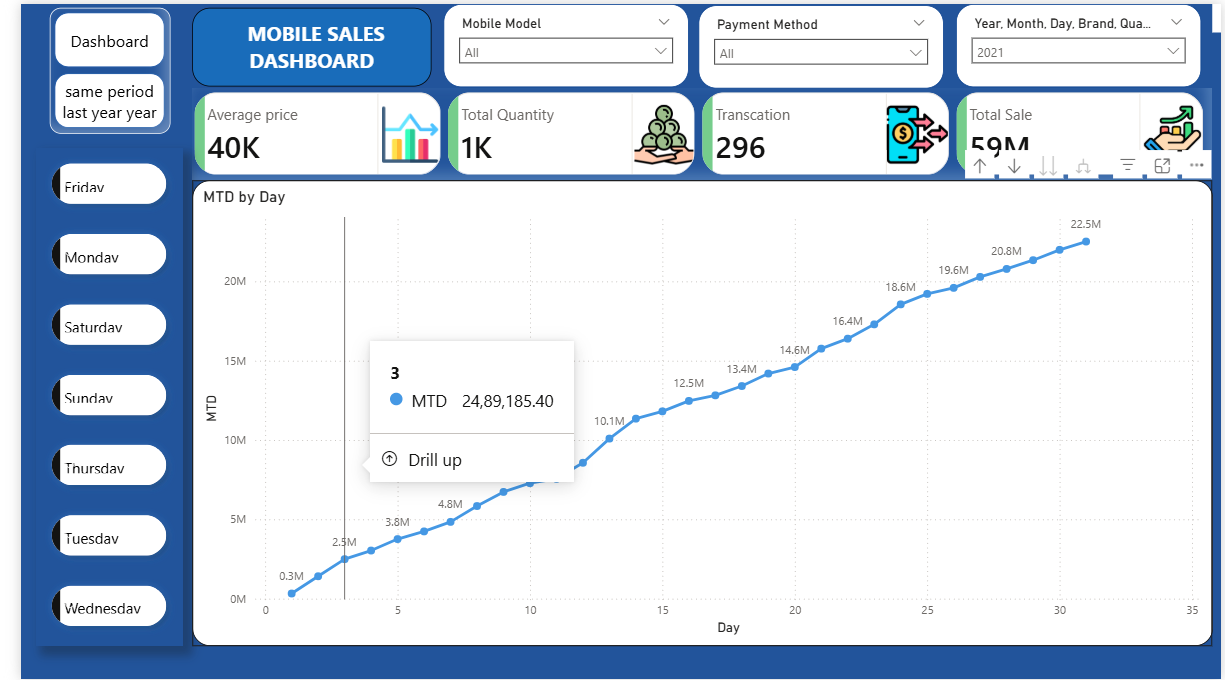

This screenshot's page, from the dashboard's own definition file:
{"tool":"powerbi","page":{"name":"MTD report","canvas":[1280,720],"ordinal":1},"visuals":[{"type":"textbox","box":[15.9,4.3,156.5,134.8],"z":0},{"type":"cardVisual","fields":{"Data":["Sheet1.Average price","Sheet1.Total_sold","Sheet1.Transcation","Sheet1.TotalSale"]},"box":[182.9,89.5,1088.2,98.7],"z":1000},{"type":"slicer","fields":{"Values":["Sheet1.Mobile Model"]},"box":[450,0,261.3,88.9],"z":2000},{"type":"slicer","fields":{"Values":["Sheet1.Payment Method"]},"box":[722.2,1.4,261.3,88.9],"z":3000},{"type":"slicer","fields":{"Values":["date_list.Date.Variation.Date Hierarchy.Year","date_list.Date.Variation.Date Hierarchy.Month","date_list.Date.Variation.Date Hierarchy.Day","Sheet1.Brand","date_list.Date.Variation.Date Hierarchy.Quarter"]},"box":[997.1,0,261.3,88.9],"z":4000},{"type":"textbox","box":[182.6,4.3,255.1,84.1],"z":5000},{"type":"advancedSlicerVisual","fields":{"Values":["date_list.Day Name"]},"box":[15.9,153.6,156.5,531.9],"z":6000},{"type":"qnaVisual","box":[1271,0,8.7,30.4],"z":7000},{"type":"lineChart","fields":{"Y":["Sheet1.MTD"],"Category":["date_list.Date.Variation.Date Hierarchy.Year","date_list.Date.Variation.Date Hierarchy.Quarter","date_list.Date.Variation.Date Hierarchy.Month","date_list.Date.Variation.Date Hierarchy.Day"]},"box":[182.6,188.4,1088.4,497.1],"z":8000},{"type":"pageNavigator","box":[30.4,4.3,129,134.8],"z":9000}]}

Visuals, with their boxes in screenshot pixels (x1, y1, x2, y2), scaled from the page's 1280x720 canvas onto the 1225x680 screenshot:
textbox: locate(15, 4, 165, 131)
cardVisual - Sheet1.Average price x Sheet1.Total_sold: locate(175, 85, 1216, 178)
slicer - Sheet1.Mobile Model: locate(431, 0, 681, 84)
slicer - Sheet1.Payment Method: locate(691, 1, 941, 85)
slicer - date_list.Date.Variation.Date Hierarchy.Year x date_list.Date.Variation.Date Hierarchy.Month: locate(954, 0, 1204, 84)
textbox: locate(175, 4, 419, 83)
advancedSlicerVisual - date_list.Day Name: locate(15, 145, 165, 647)
qnaVisual: locate(1216, 0, 1224, 29)
lineChart - Sheet1.MTD x date_list.Date.Variation.Date Hierarchy.Year: locate(175, 178, 1216, 647)
pageNavigator: locate(29, 4, 153, 131)
